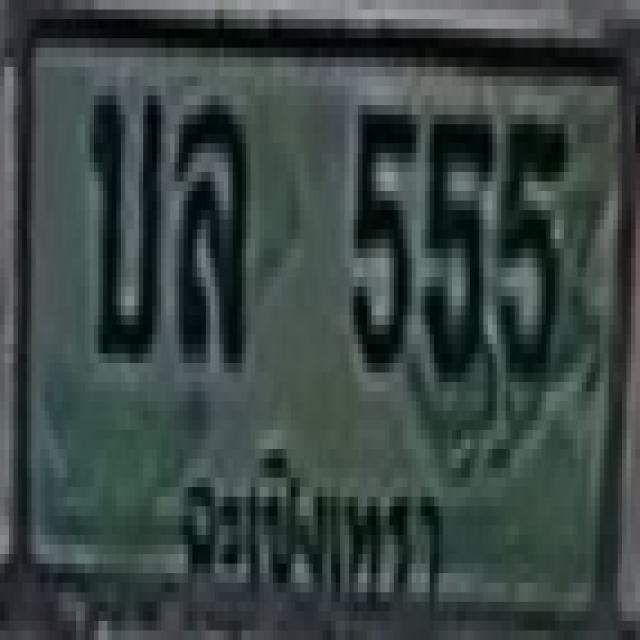5: (497, 110, 564, 387), (421, 105, 488, 373), (349, 96, 412, 363)
A26: (85, 86, 157, 353)
A36: (175, 95, 246, 354)
CCO: (172, 433, 456, 626)
